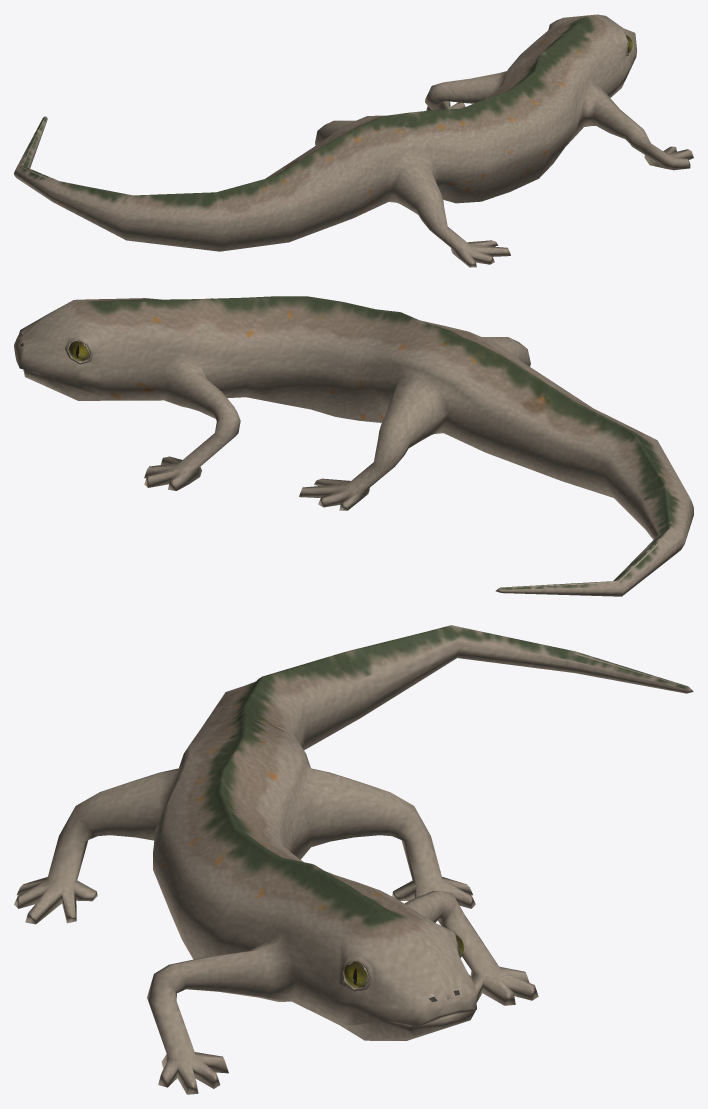
File: Triton.fbx
3 renders of one model, top to bottom at view 1: azimuth 30°, elevation 25°; view 2: azimuth 150°, elevation 25°; view 3: azimuth 270°, elevation 25°, orthographic. The views are drawn at different scales.
Parts seen in each view (by area): view 1: body; view 2: body; view 3: body.
Boxes of the visible parts, <box> form: body: <box>14,14,693,267</box>; body: <box>14,296,693,596</box>; body: <box>14,625,693,1094</box>.
Bounding box in the file's own units: 20.65 × 3.45 × 14.1.
